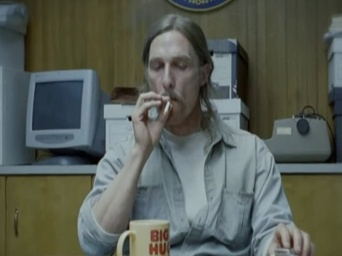smoke: (162, 99, 171, 117)
